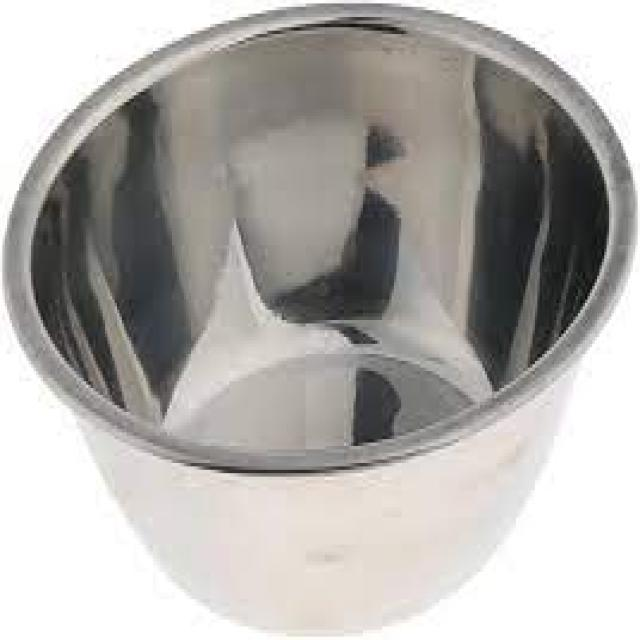Sponge Bowl: (4, 0, 630, 640)
